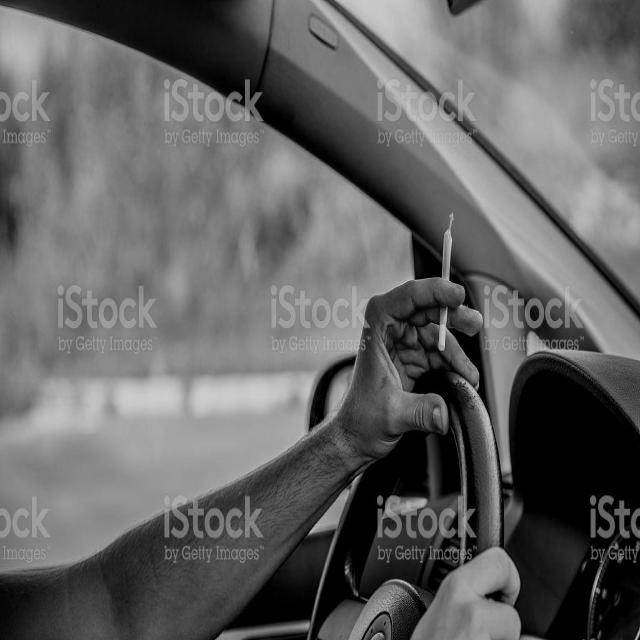Cigarette: (430, 213, 462, 356)
